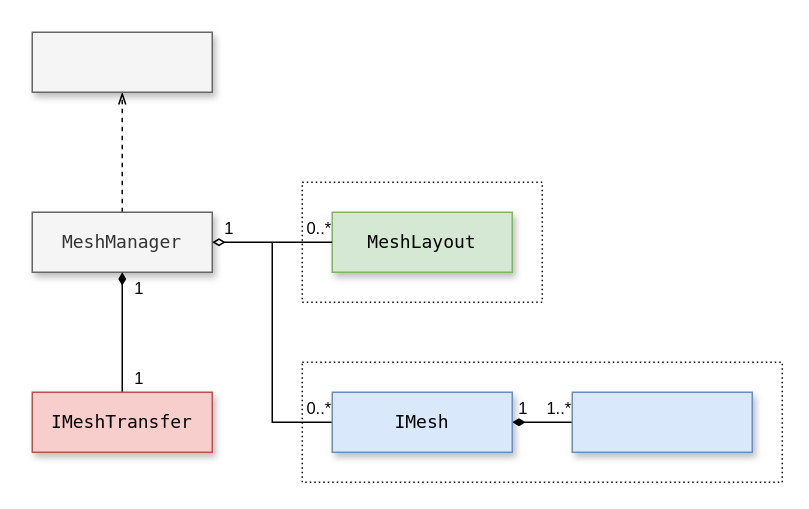
Some shapes in this 809 by 509 pixel diagram are drawn without their labels. Each missing label, with the centre of its shape:
MemoryManager: the point at 123,64
VulkanBuffer: the point at 663,424
